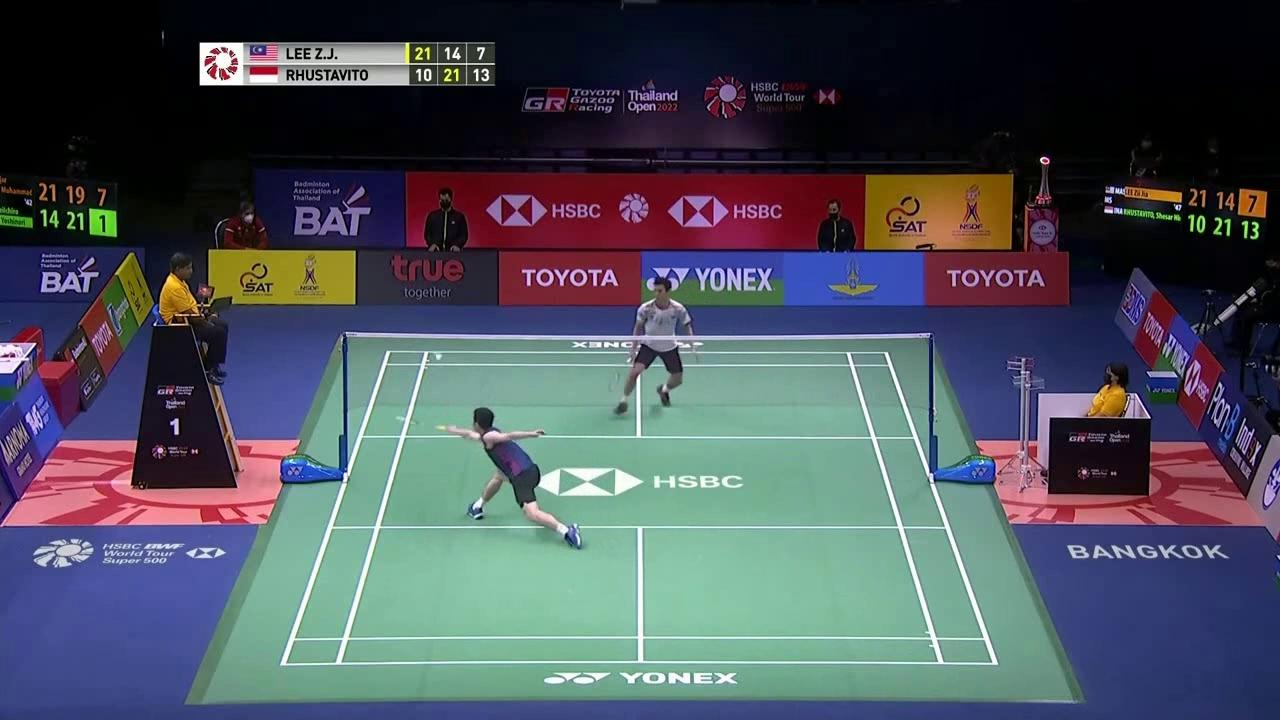racket: (393, 413, 448, 434), (607, 355, 634, 394)
shuttle: (434, 352, 443, 362)
